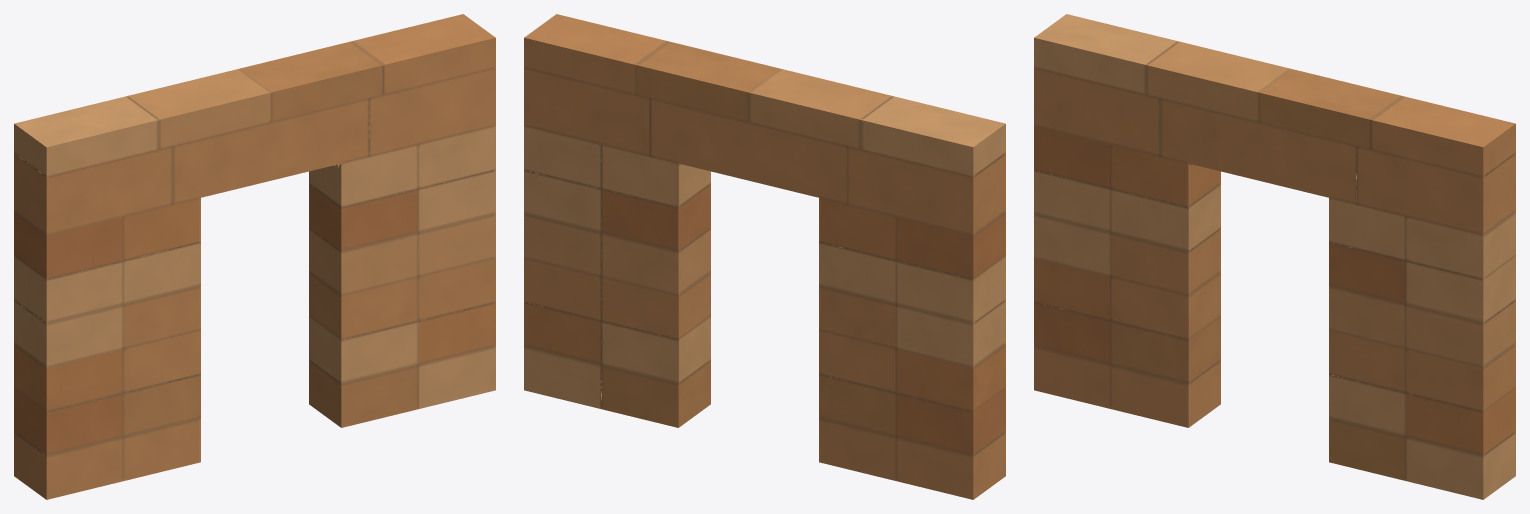
The picture shows the model from 3 angles, left to right: view 1: azimuth 30°, elevation 25°; view 2: azimuth 150°, elevation 25°; view 3: azimuth 330°, elevation 25°; orthographic projection.
Parts seen in each view (by area): view 1: ss07-sandstone-doorway; view 2: ss07-sandstone-doorway; view 3: ss07-sandstone-doorway.
Boxes of the visible parts, <box> form: ss07-sandstone-doorway: <box>14,14,495,499</box>; ss07-sandstone-doorway: <box>524,14,1005,499</box>; ss07-sandstone-doorway: <box>1034,14,1515,499</box>.
Size of the model in its own units: 400 by 300 by 50.
